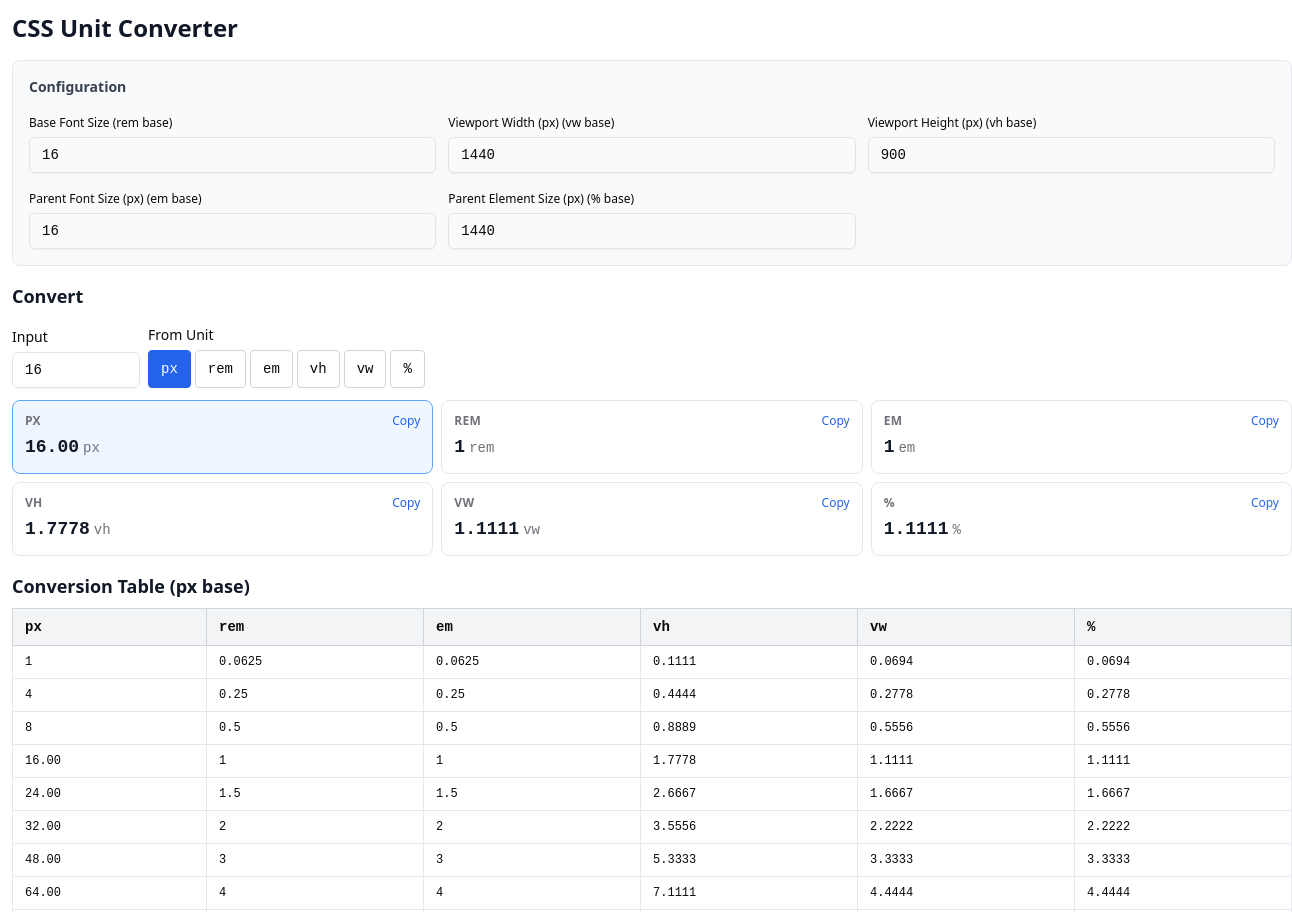
Test: CssUnitConverter › px to rem conversion › should convert 32px to 2rem with default base 16
Replace the text in the number field with test id "value-input" with "32" at (76, 370), box [12,352,140,388]
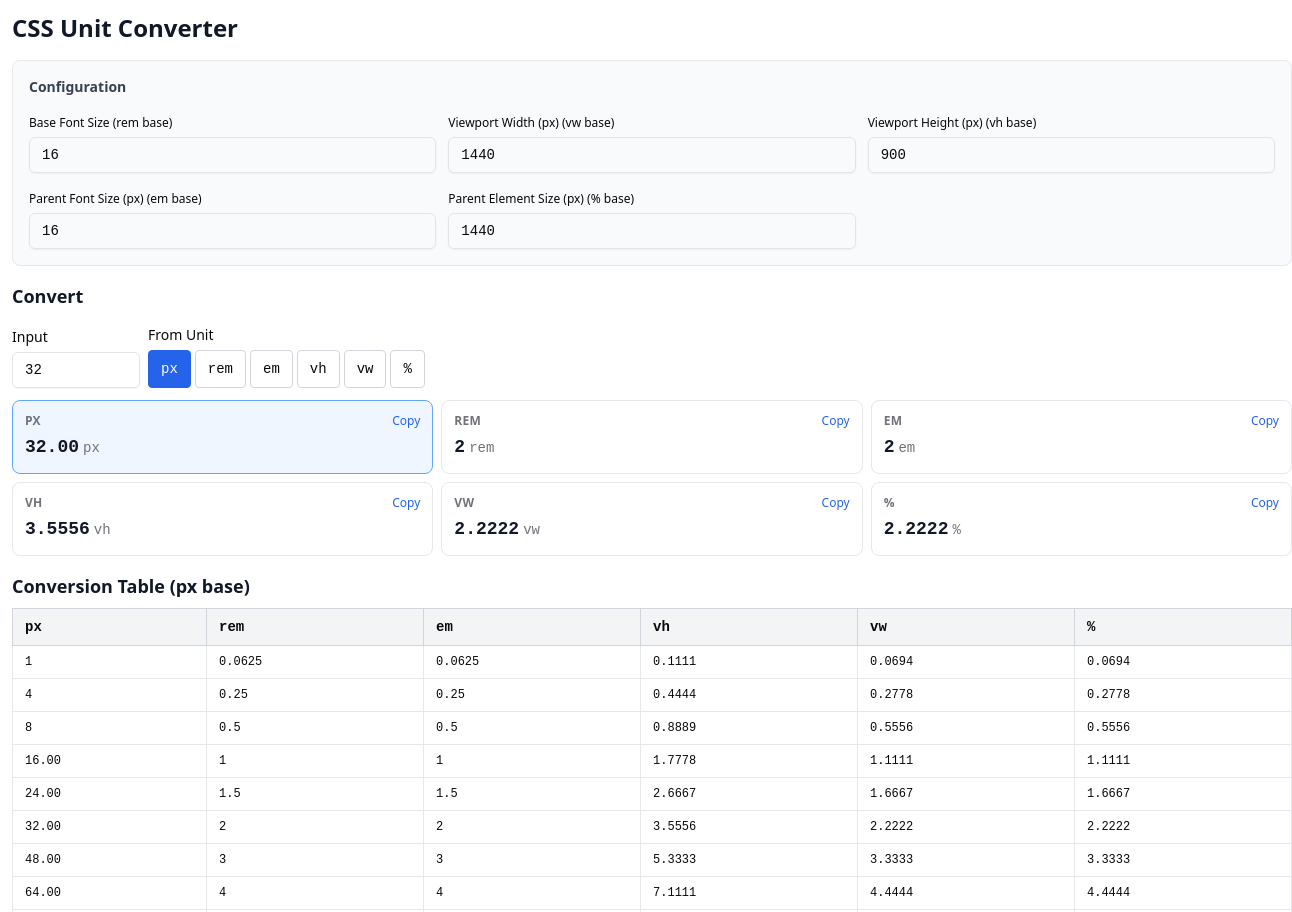
Now the element with test id "result-rem" shows "2", box [454,437,465,457]
